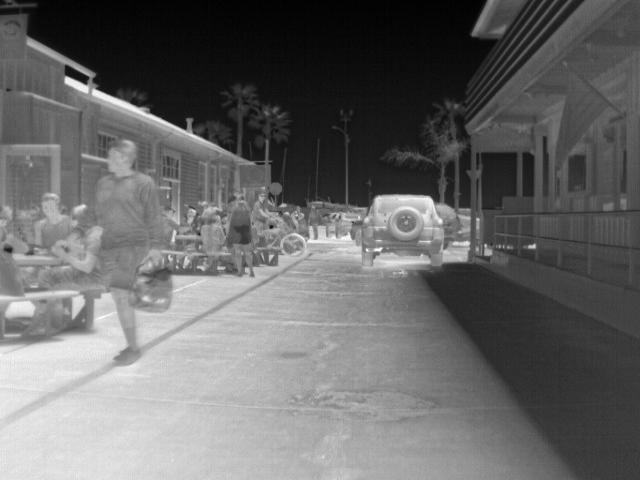car: (363, 194, 443, 271), (433, 200, 461, 246), (326, 210, 359, 235)
person: (75, 137, 166, 361), (50, 204, 106, 292), (225, 195, 259, 277), (31, 194, 71, 257), (254, 181, 286, 243), (201, 211, 225, 253), (164, 206, 194, 236), (181, 208, 197, 227)
